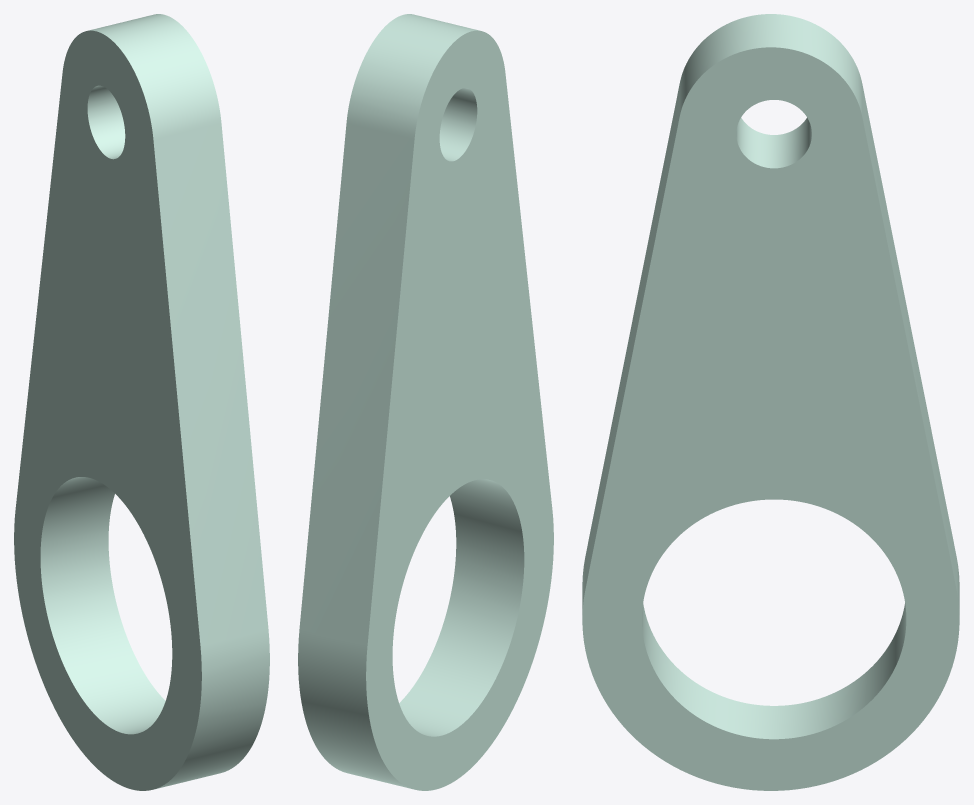
3 renders of one model, left to right at view 1: azimuth 30°, elevation 25°; view 2: azimuth 150°, elevation 25°; view 3: azimuth 270°, elevation 25°, orthographic.
Parts seen in each view (by area): view 1: Renderer Node; view 2: Renderer Node; view 3: Renderer Node.
Boxes of the visible parts, x1,y1,x2,y2 form: Renderer Node: (14, 14, 269, 790); Renderer Node: (298, 14, 553, 790); Renderer Node: (582, 14, 959, 790).
Size of the model in its own units: 0.0938 by 0.9748 by 0.448.
